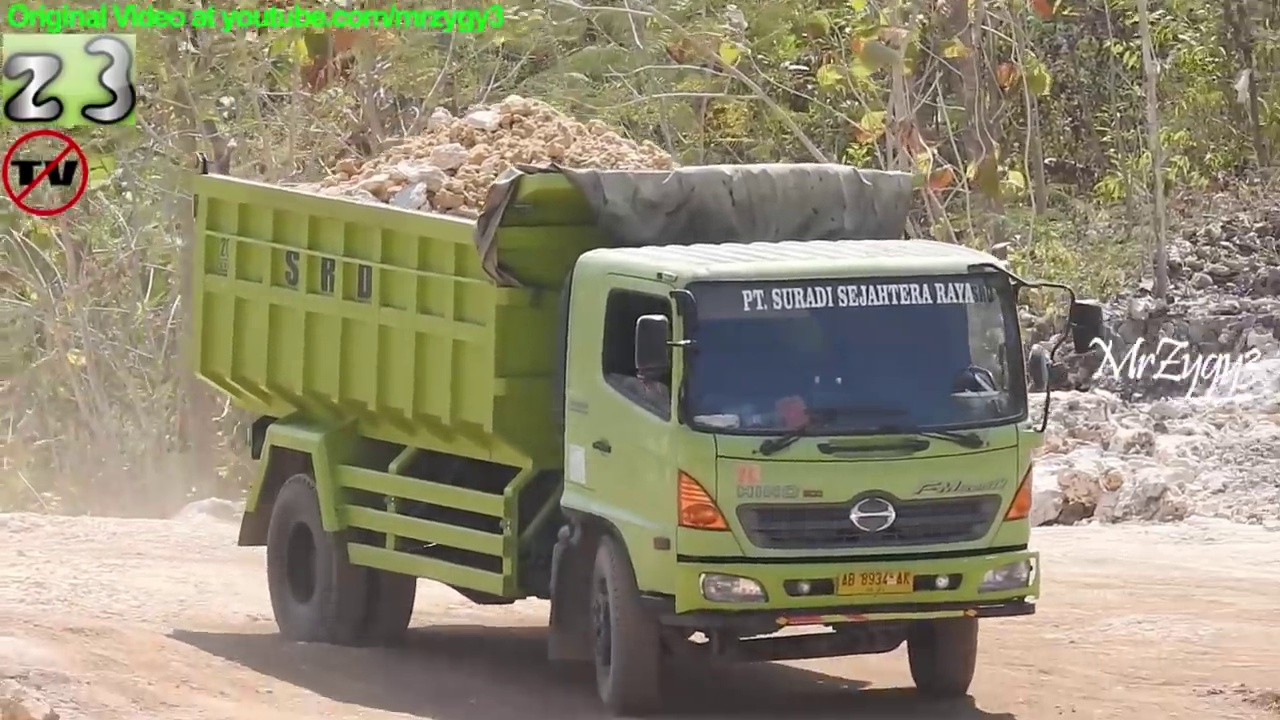truck: (178, 147, 1117, 719)
